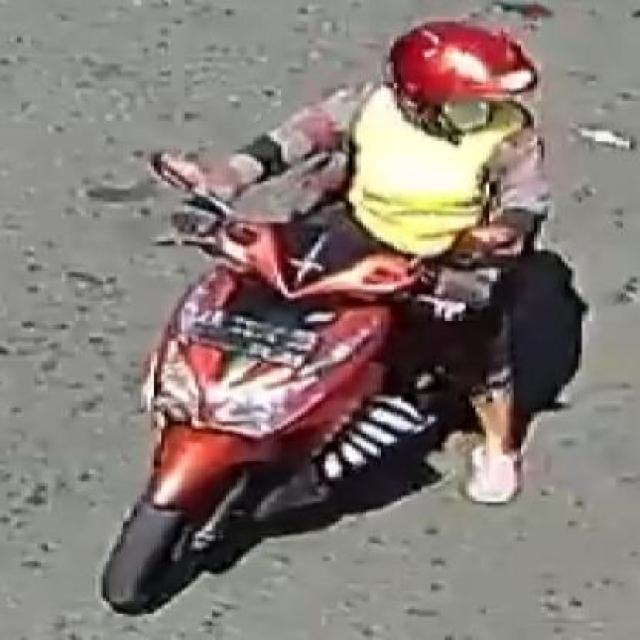helmet: (377, 11, 539, 160)
motorcycle: (83, 9, 574, 627)
